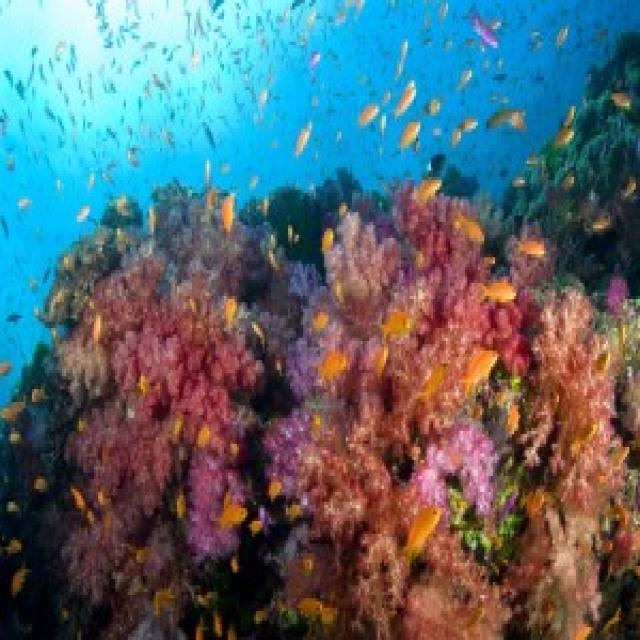Healthy: (266, 181, 639, 638), (56, 226, 266, 638)
